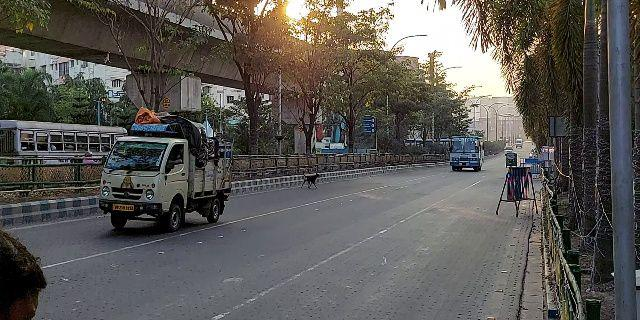Bus: (442, 131, 485, 174)
Minitruck: (97, 108, 236, 231)
